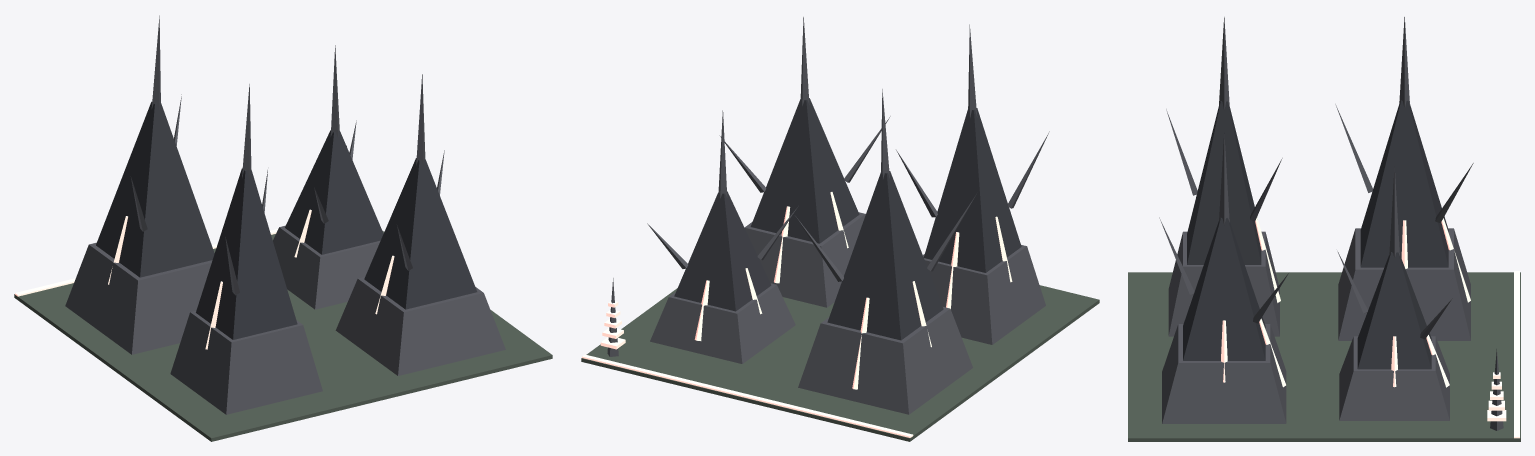
File: zone_low_4_t5.glb
3 renders of one model, left to right at view 1: azimuth 30°, elevation 25°; view 2: azimuth 150°, elevation 25°; view 3: azimuth 270°, elevation 25°, orthographic. The views are drawn at different scales.
Visible parts, largest first — view 1: zone_low_4_t5, detail; view 2: zone_low_4_t5, detail; view 3: zone_low_4_t5, detail.
Part boxes in pixels (left/top/right/bottom): zone_low_4_t5: left=14, top=15, right=552, bottom=441; detail: left=15, top=94, right=444, bottom=349; zone_low_4_t5: left=581, top=17, right=1099, bottom=441; detail: left=582, top=116, right=1049, bottom=437; zone_low_4_t5: left=1128, top=17, right=1520, bottom=441; detail: left=1159, top=104, right=1519, bottom=438.
Bounding box in the file's own units: 19.6 × 16.75 × 19.6.
